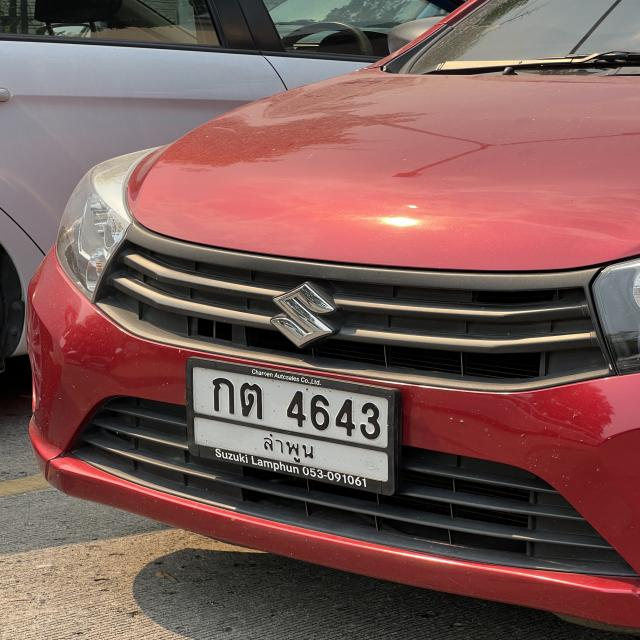license_plate: (173, 348, 412, 506)
